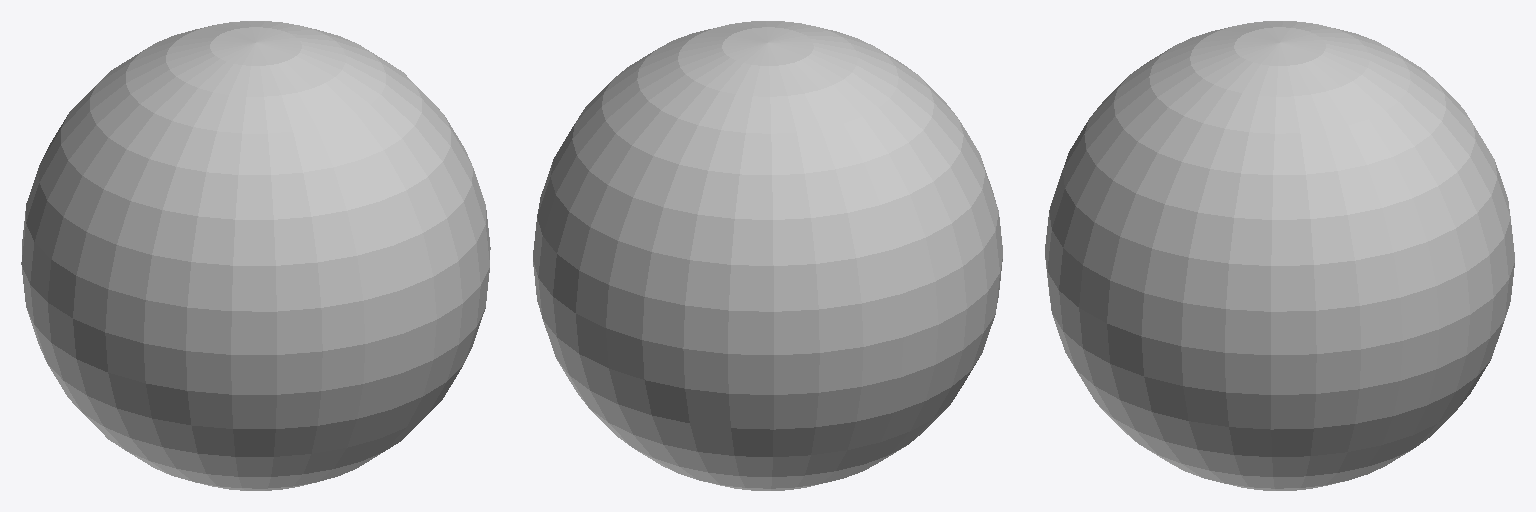
File: mesh_legjoint_r4.obj
3 views of the same model, side by side, from view 1: azimuth 30°, elevation 25°; view 2: azimuth 150°, elevation 25°; view 3: azimuth 270°, elevation 25° (orthographic).
Visible parts, largest first — view 1: Sphere.007_Sphere.010; view 2: Sphere.007_Sphere.010; view 3: Sphere.007_Sphere.010.
Part boxes in pixels (bbox=[...]): Sphere.007_Sphere.010: bbox=[21, 21, 490, 490]; Sphere.007_Sphere.010: bbox=[533, 21, 1002, 490]; Sphere.007_Sphere.010: bbox=[1045, 21, 1514, 490].
Bounding box in the file's own units: 0.2998 × 0.3 × 0.2998.